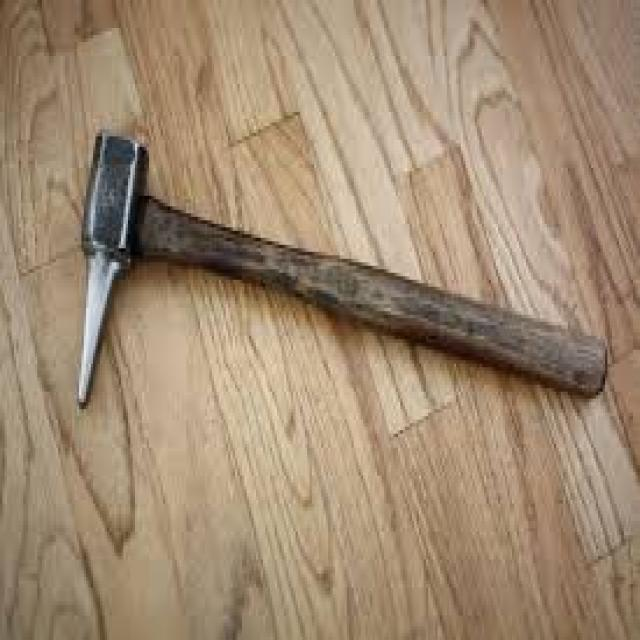hammer: (68, 118, 614, 416)
